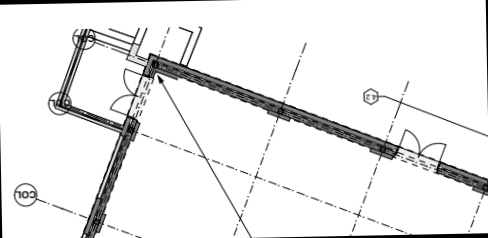double door: (397, 127, 448, 167), (107, 67, 145, 119)
